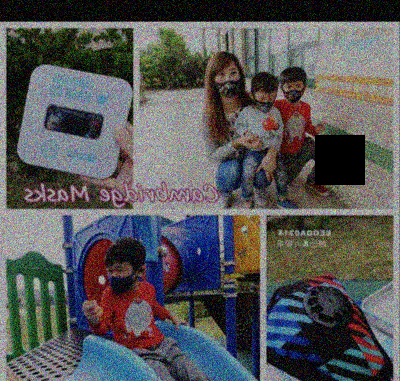with_mask: (104, 263, 134, 297), (213, 65, 242, 99), (281, 81, 305, 104), (252, 93, 275, 114)
